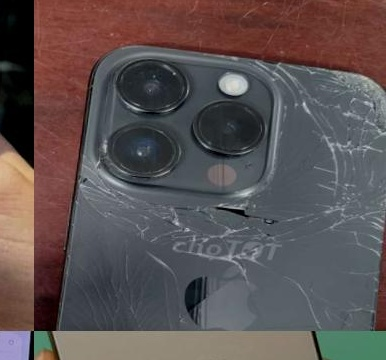physical_damage: (185, 238, 332, 329), (63, 163, 192, 242), (305, 155, 386, 259), (193, 182, 306, 252), (234, 39, 342, 110), (55, 278, 179, 331), (64, 233, 186, 285), (276, 102, 350, 164), (326, 259, 386, 331), (337, 66, 386, 137), (343, 129, 386, 182)
